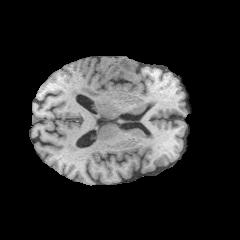glioma: (73, 58, 143, 98)
